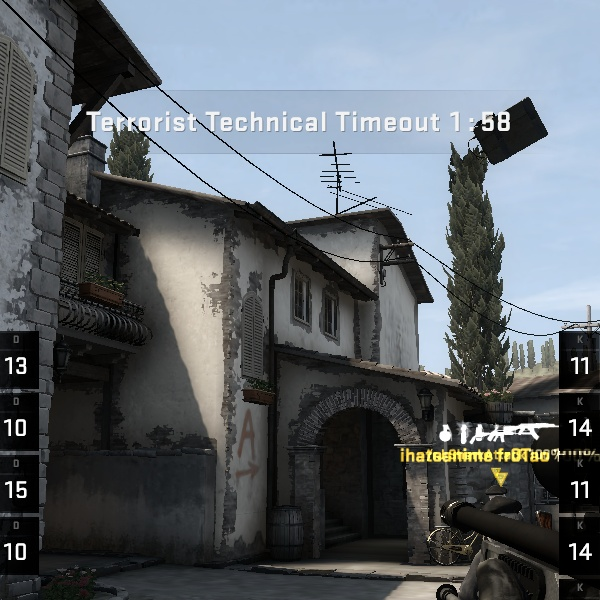t_body: (410, 496, 584, 599)
